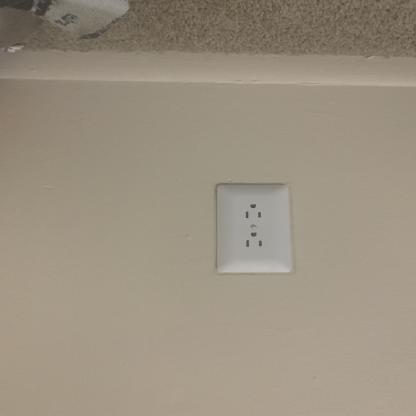OUTLET: (214, 184, 289, 274)
